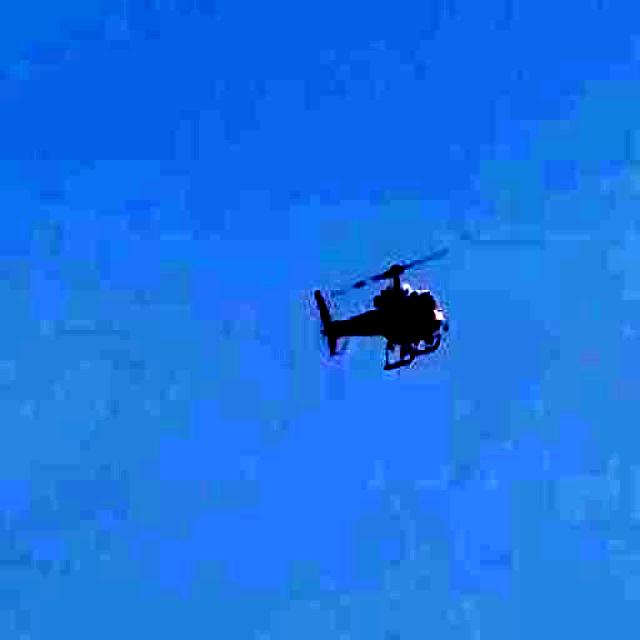drone: (278, 200, 499, 396)
